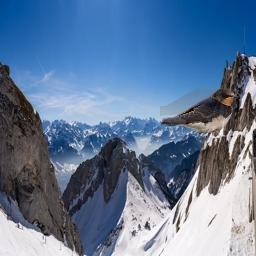Swallow: (160, 87, 238, 136)
